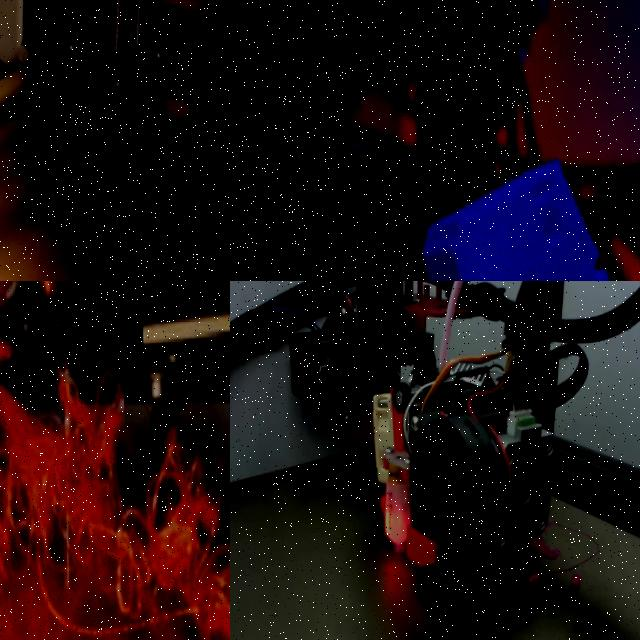spaghetti: (0, 382, 230, 640), (521, 535, 559, 558), (527, 572, 539, 585), (571, 575, 579, 589)
